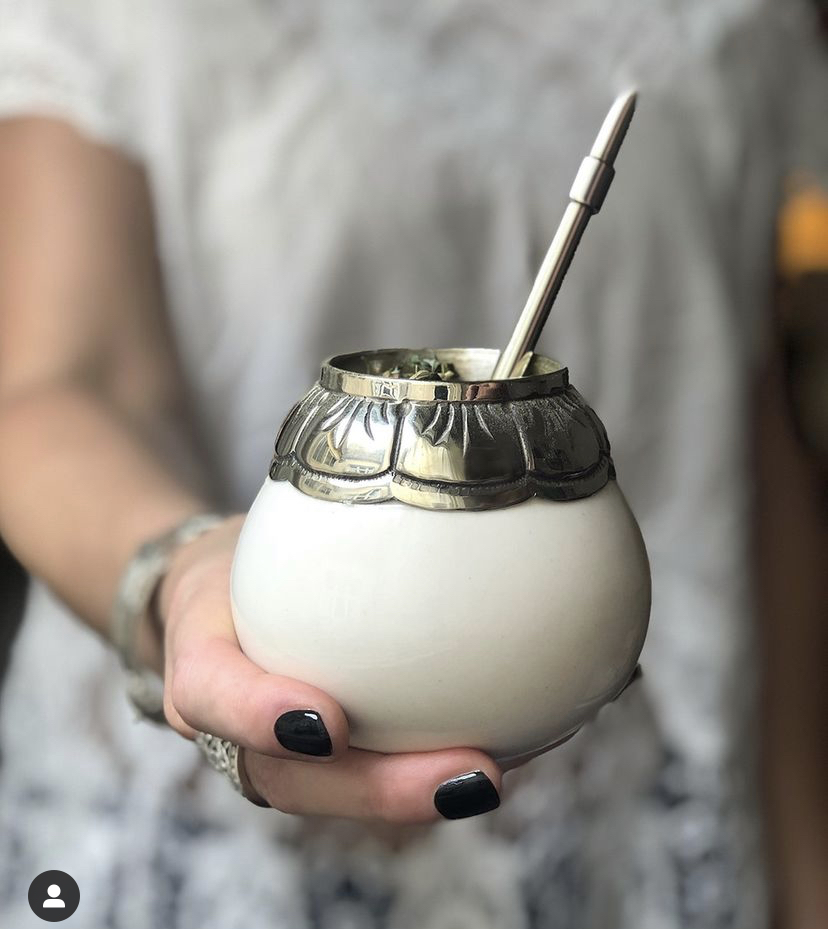calabaza: (223, 327, 648, 768)
mate: (214, 33, 670, 771)
